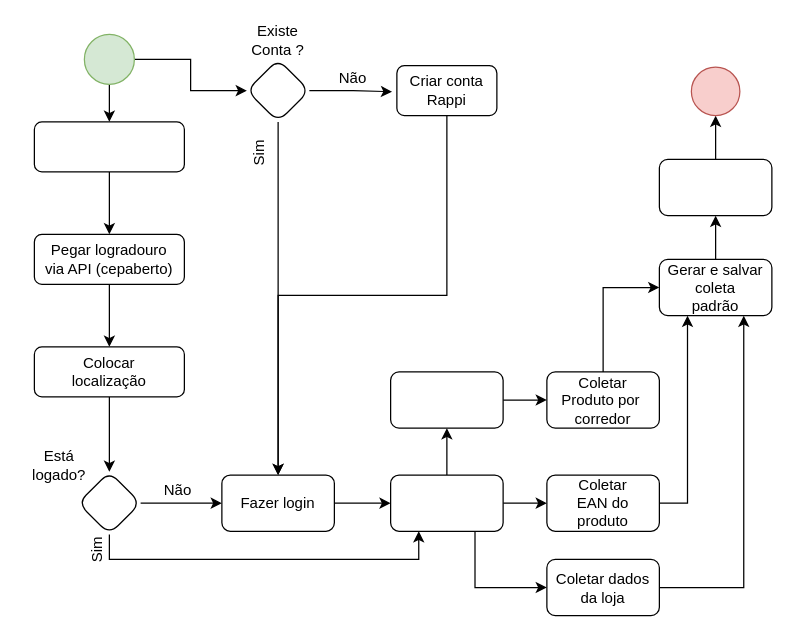
Image size: 794x638. Some labels were removed from this diagram. Each missing label, with the centre of its shape:
"Entrar na loja e coletar links corredores" goes at (x=446, y=399).
"Enviar coleta para S3" goes at (x=715, y=187).
"Gerar LAT e LNG (geodecoder)" goes at (x=108, y=146).
"Gerar link para cada loja" goes at (x=446, y=502).
